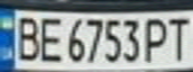3: (121, 16, 145, 63)
5: (103, 16, 124, 64)
6: (63, 15, 87, 63)
7: (81, 16, 106, 63)
B: (9, 12, 42, 62)
E: (36, 14, 63, 63)
P: (142, 15, 172, 63)
T: (163, 14, 193, 62)
